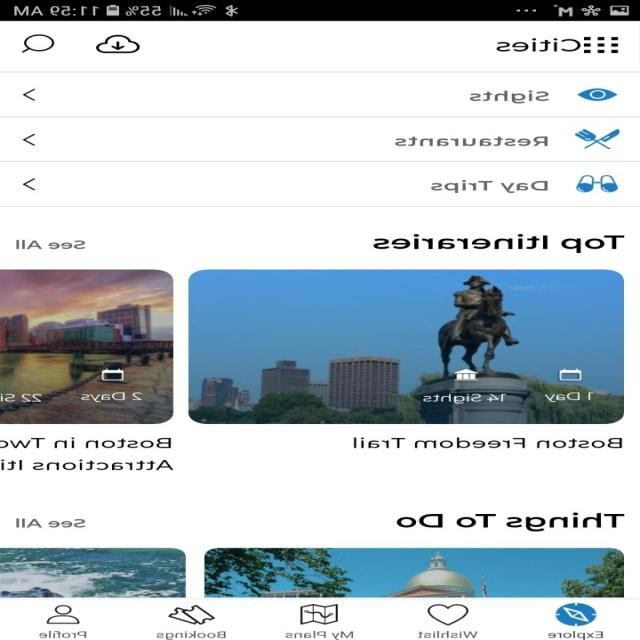BackgroundImage: (1, 269, 174, 424)
Icon: (556, 602, 596, 626), (169, 604, 216, 624), (428, 603, 470, 625), (96, 34, 142, 54), (300, 604, 338, 624), (47, 604, 81, 624), (583, 36, 619, 54), (22, 34, 56, 53), (577, 87, 618, 101), (102, 368, 126, 381), (558, 368, 582, 381), (454, 369, 478, 380), (23, 178, 37, 190), (23, 134, 37, 146), (23, 89, 37, 101)
Image: (188, 269, 625, 424), (205, 547, 625, 597), (1, 547, 186, 597), (574, 128, 620, 149), (576, 175, 619, 192)
Text: (1, 438, 174, 470), (373, 233, 625, 253), (396, 512, 625, 531), (354, 438, 624, 448), (431, 179, 549, 193), (394, 136, 548, 146), (496, 38, 582, 52), (470, 91, 550, 104), (423, 392, 506, 403), (16, 239, 86, 249), (16, 518, 86, 527), (285, 630, 355, 639), (158, 630, 228, 639), (82, 392, 144, 402), (548, 630, 604, 639), (545, 392, 594, 402), (418, 630, 478, 638), (40, 630, 88, 638), (1, 393, 43, 402)
